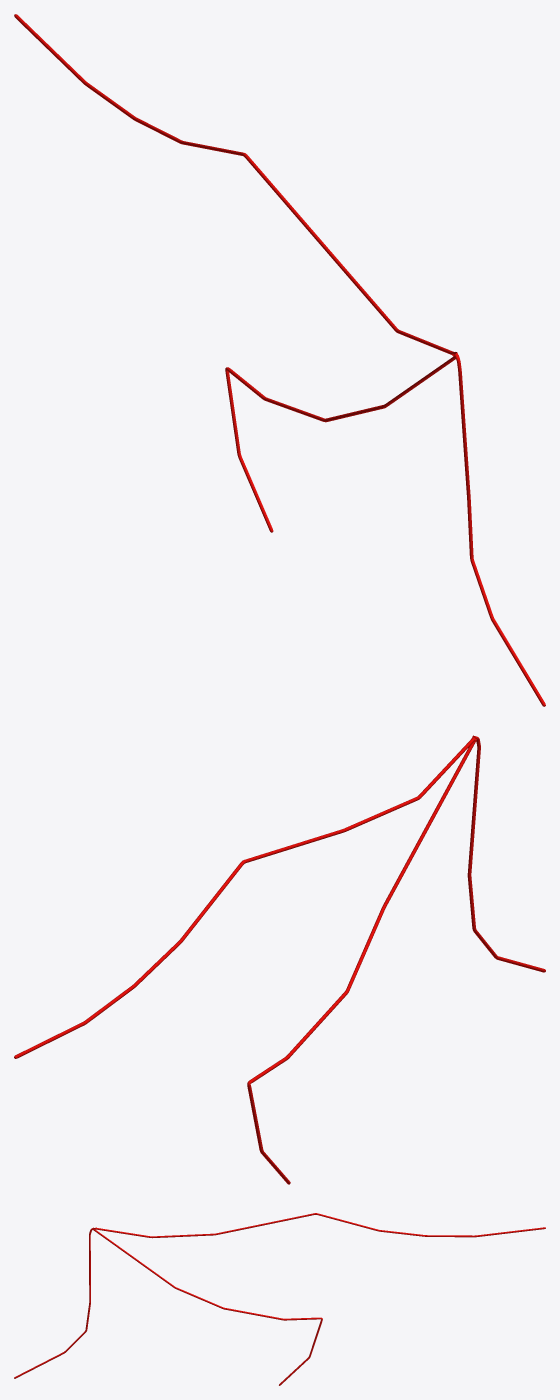
Rendered from Hilo.fbx.
The picture shows the model from 3 angles, top to bottom: view 1: azimuth 30°, elevation 25°; view 2: azimuth 150°, elevation 25°; view 3: azimuth 270°, elevation 25°; orthographic projection. The views are drawn at different scales.
Parts seen in each view (by area): view 1: Hilo; view 2: Hilo; view 3: Hilo.
Boxes of the visible parts, x1,y1,x2,y2 form: Hilo: [14, 14, 545, 706]; Hilo: [14, 735, 545, 1184]; Hilo: [14, 1213, 545, 1385].
Bounding box in the file's own units: 2.49 × 54.54 × 150.
